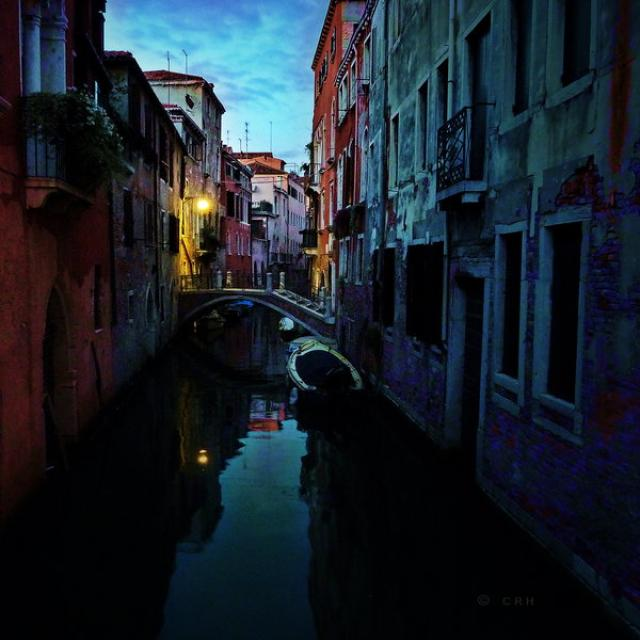Boat: (275, 324, 391, 415)
